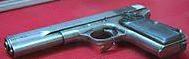gun: (1, 1, 189, 59)
